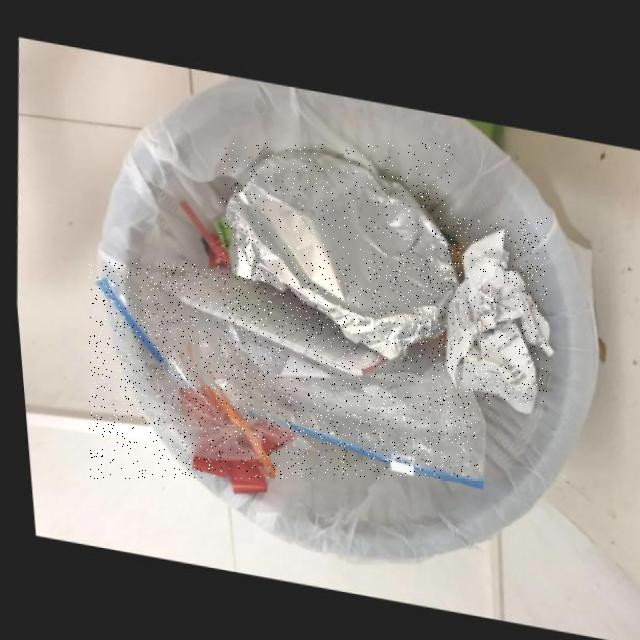metal: (220, 143, 453, 351)
paper: (159, 262, 380, 368), (440, 218, 547, 404)
plastic: (90, 262, 478, 479)
